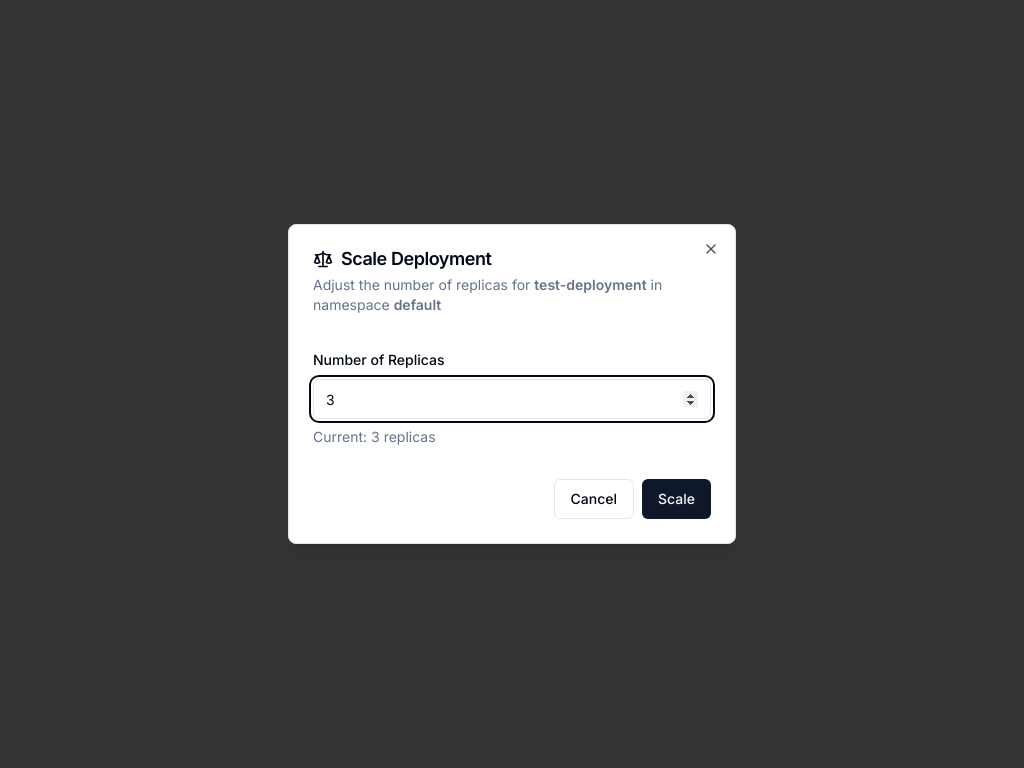
ScaleDeploymentDialog › Validation › should show error for negative numbers
Replace the text in the number field labelled "Number of Replicas" with "-1" at [512, 399], box left=313, top=379, right=711, bottom=419
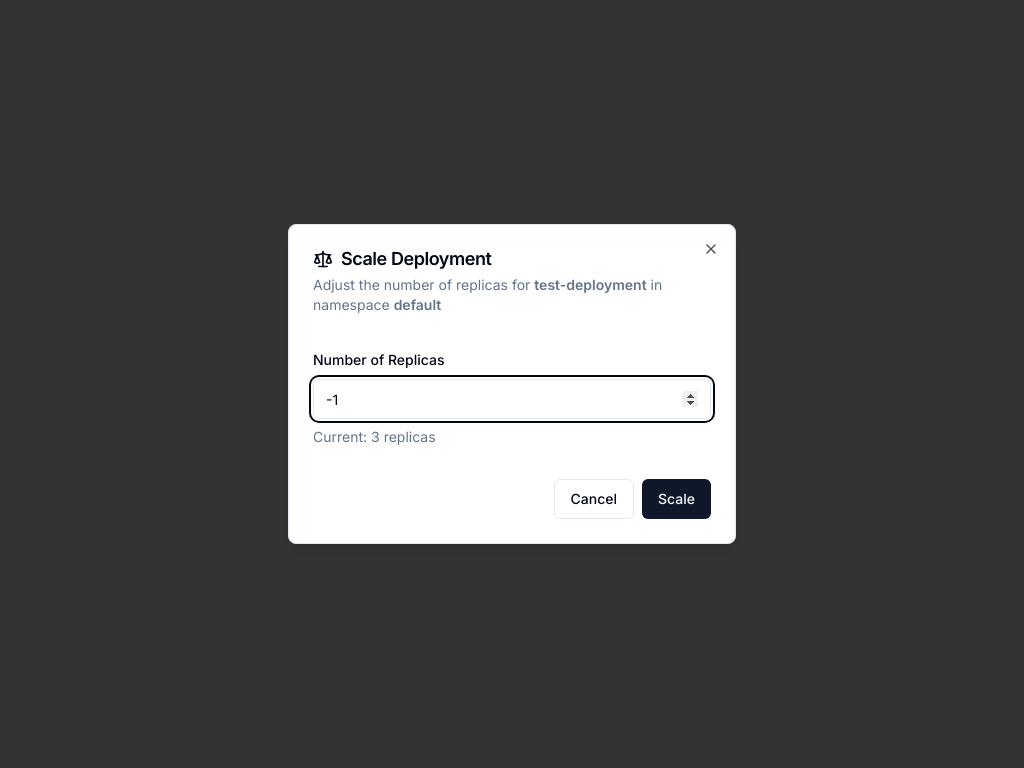
Click the button "Scale" at [676, 499], box left=642, top=479, right=711, bottom=519
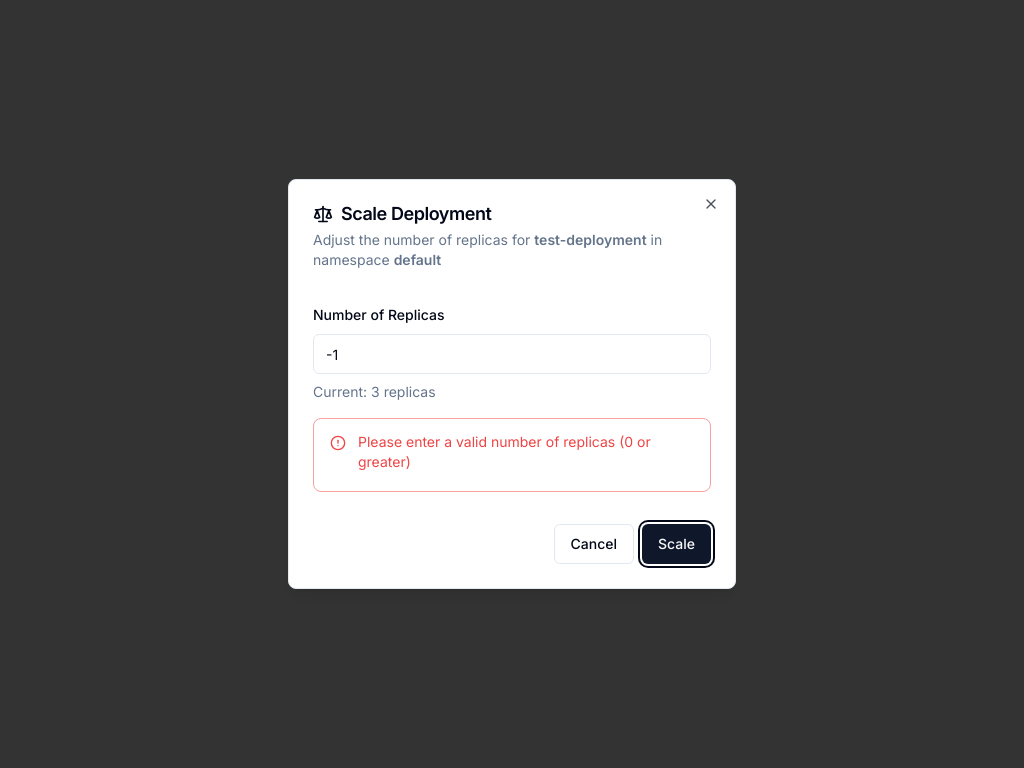
Now the text "Please enter a valid number of replicas (0 or greater)" is shown, box left=358, top=433, right=651, bottom=470
